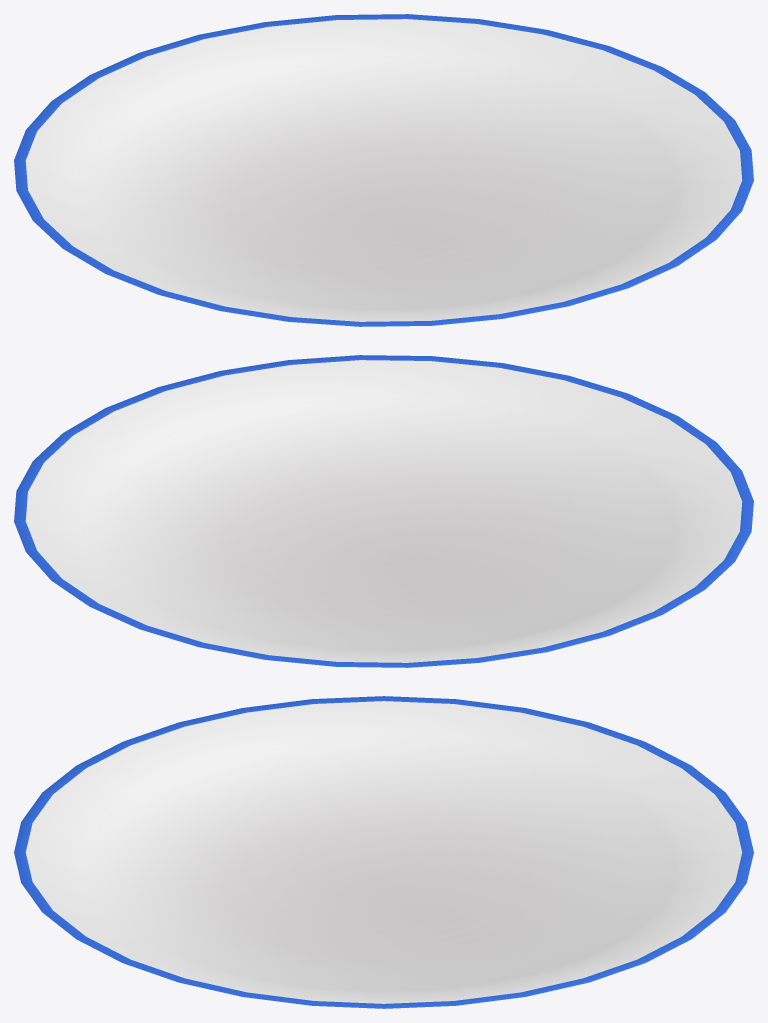
File: PlateBig.fbx
3 renders of one model, top to bottom at view 1: azimuth 30°, elevation 25°; view 2: azimuth 150°, elevation 25°; view 3: azimuth 270°, elevation 25°, orthographic.
Parts seen in each view (by area): view 1: PlatoPlano; view 2: PlatoPlano; view 3: PlatoPlano.
Part boxes in pixels (<box>): PlatoPlano: <box>14,14,753,326</box>; PlatoPlano: <box>14,355,753,667</box>; PlatoPlano: <box>14,696,753,1008</box>.
Size of the model in its own units: 174 by 12.68 by 174.
